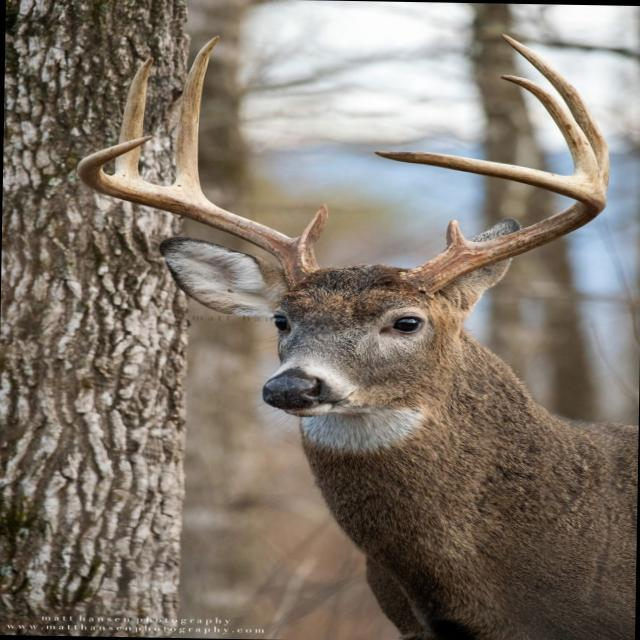L-F: (373, 150, 607, 295)
R-F: (78, 136, 319, 288), (300, 204, 328, 253)
